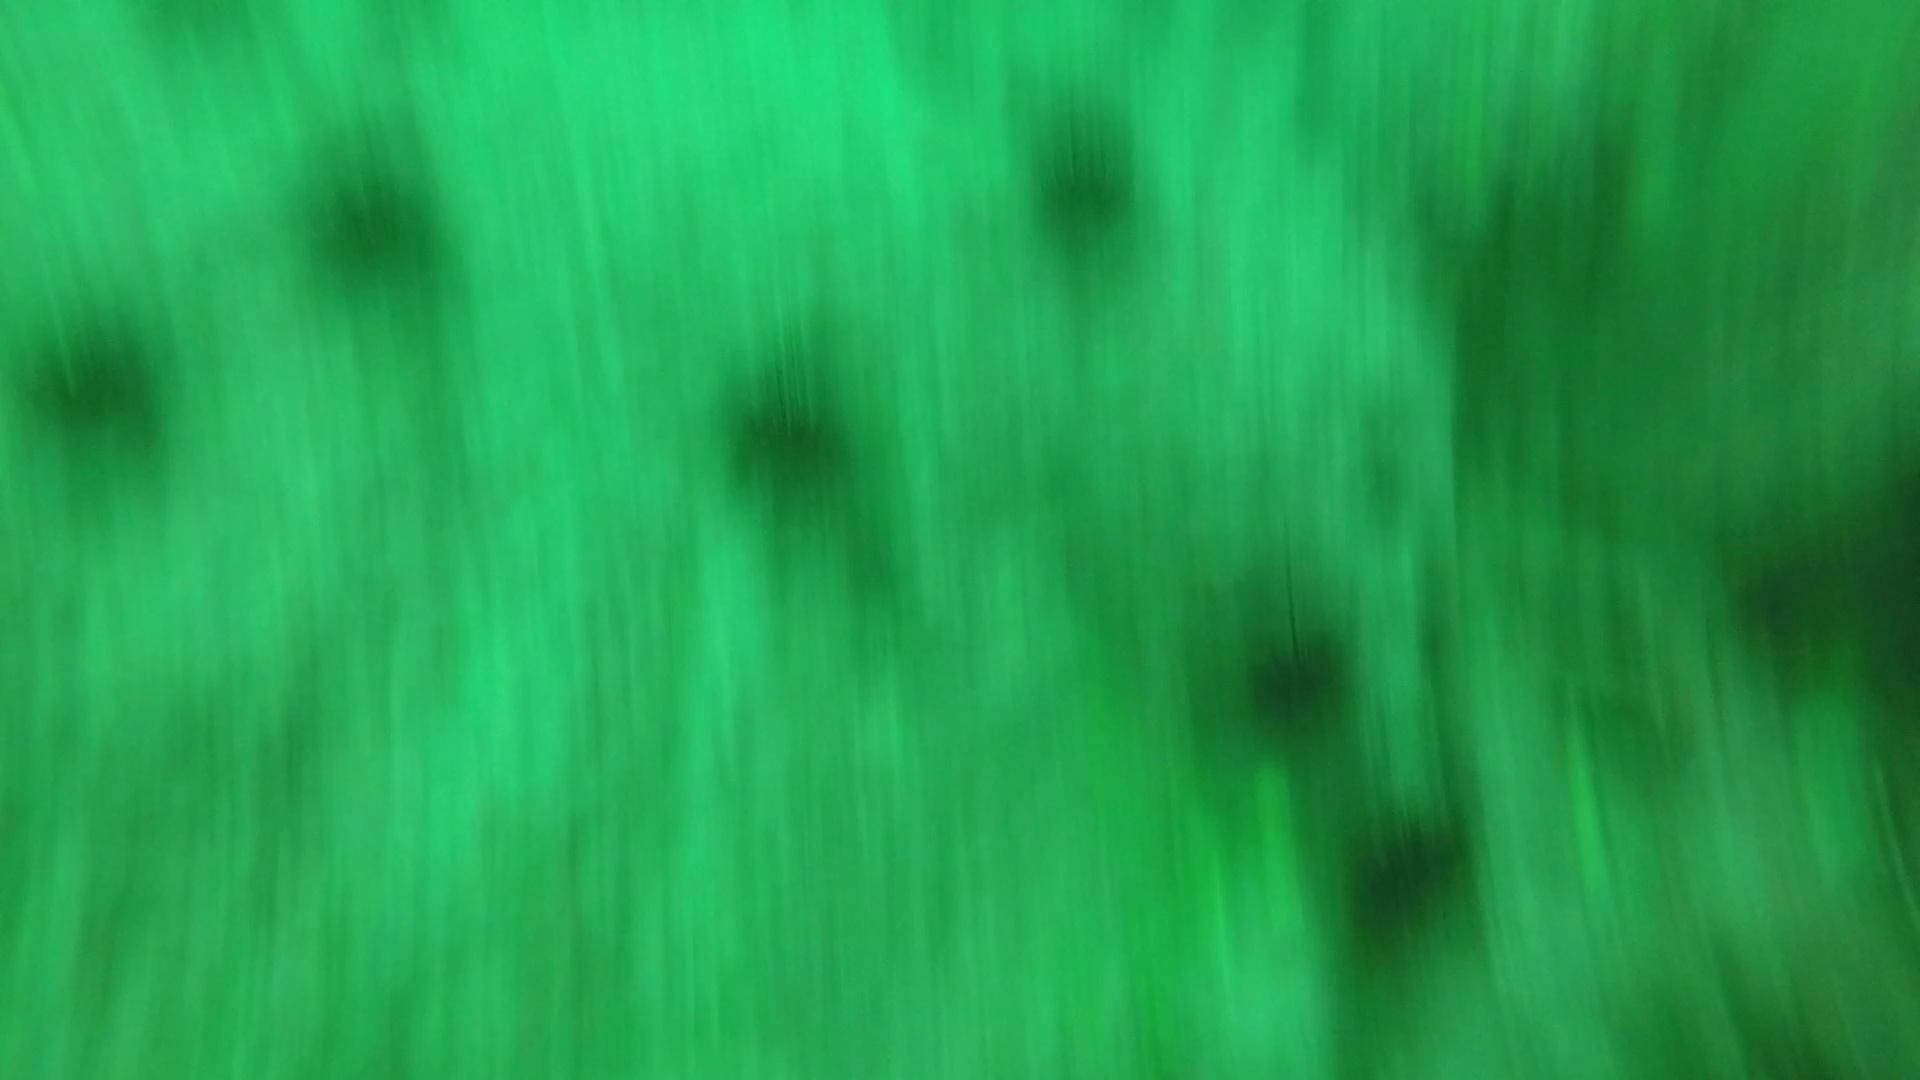echinus: (15, 311, 177, 458), (1331, 804, 1480, 957), (295, 152, 454, 295), (715, 360, 862, 508), (1021, 108, 1149, 261), (1234, 611, 1360, 736)
